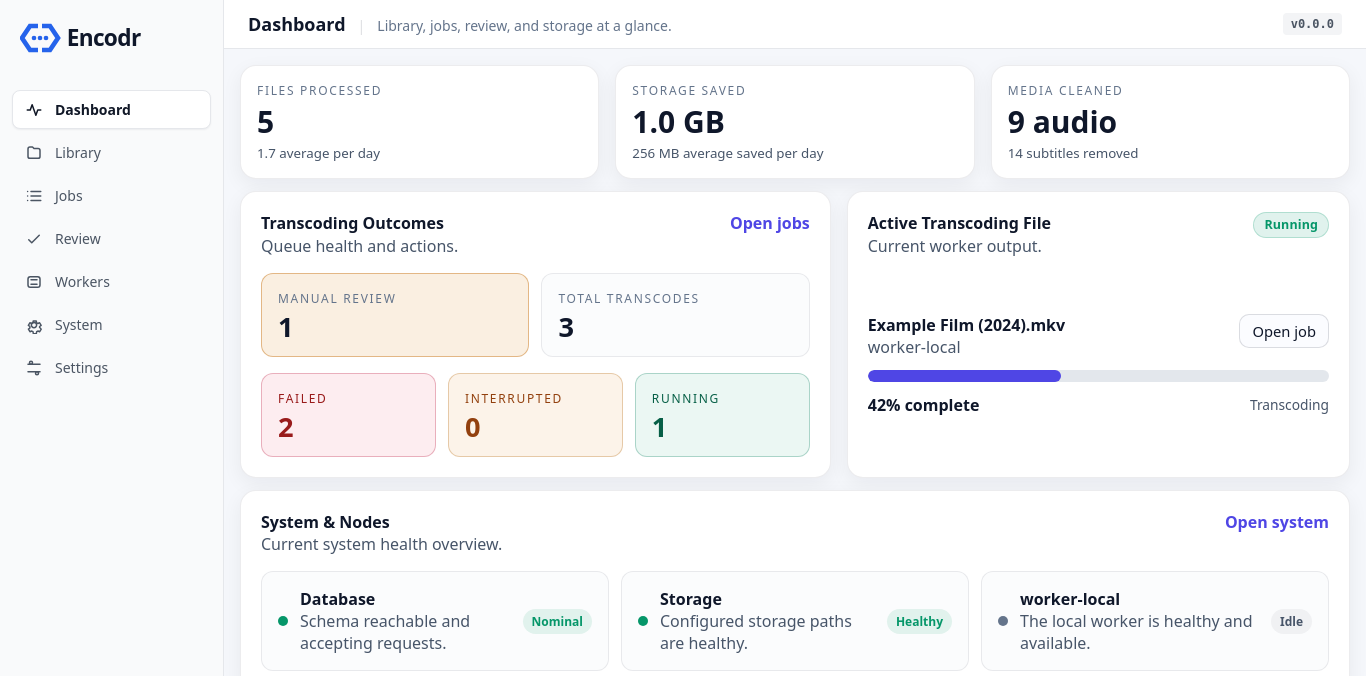
Encodr UI shell › opens dashboard outcome cards with URL status filters
Click the link "Failed 2" at (348, 415), box x1=261 y1=373 x2=436 y2=457
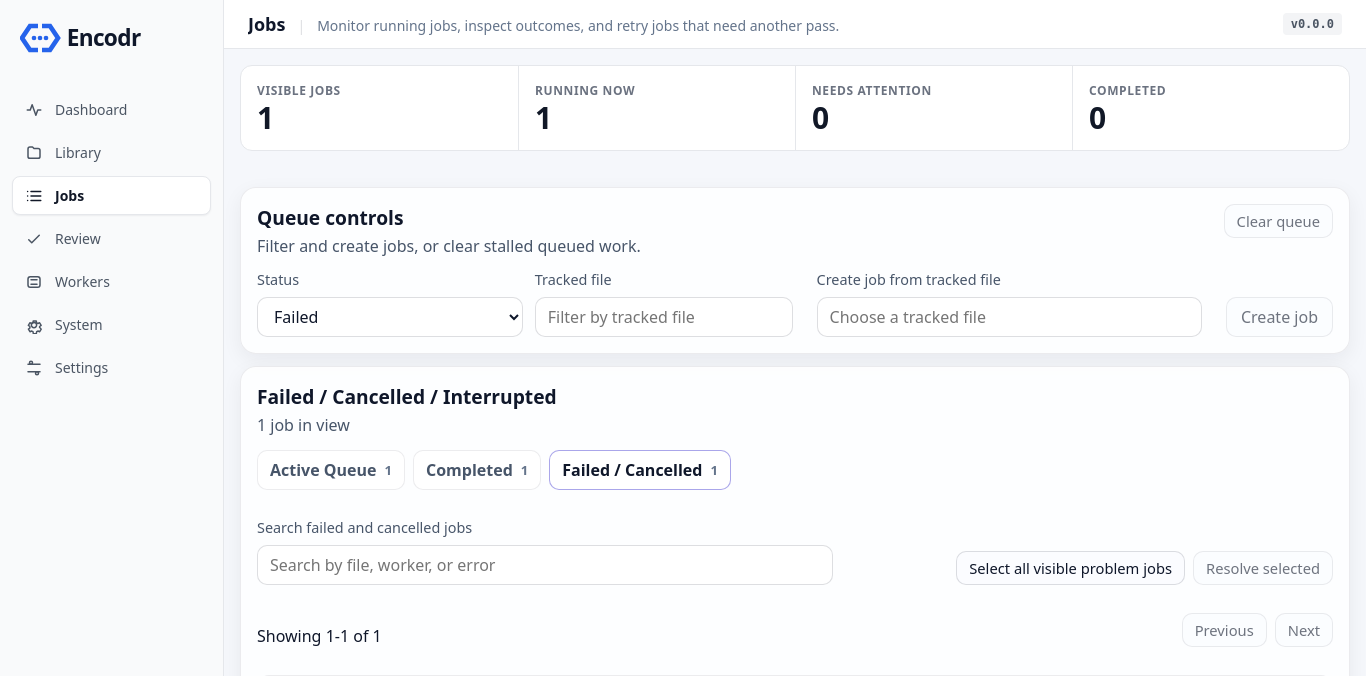
Now the dropdown labelled "Status" shows "Failed", box x1=257 y1=298 x2=523 y2=338
